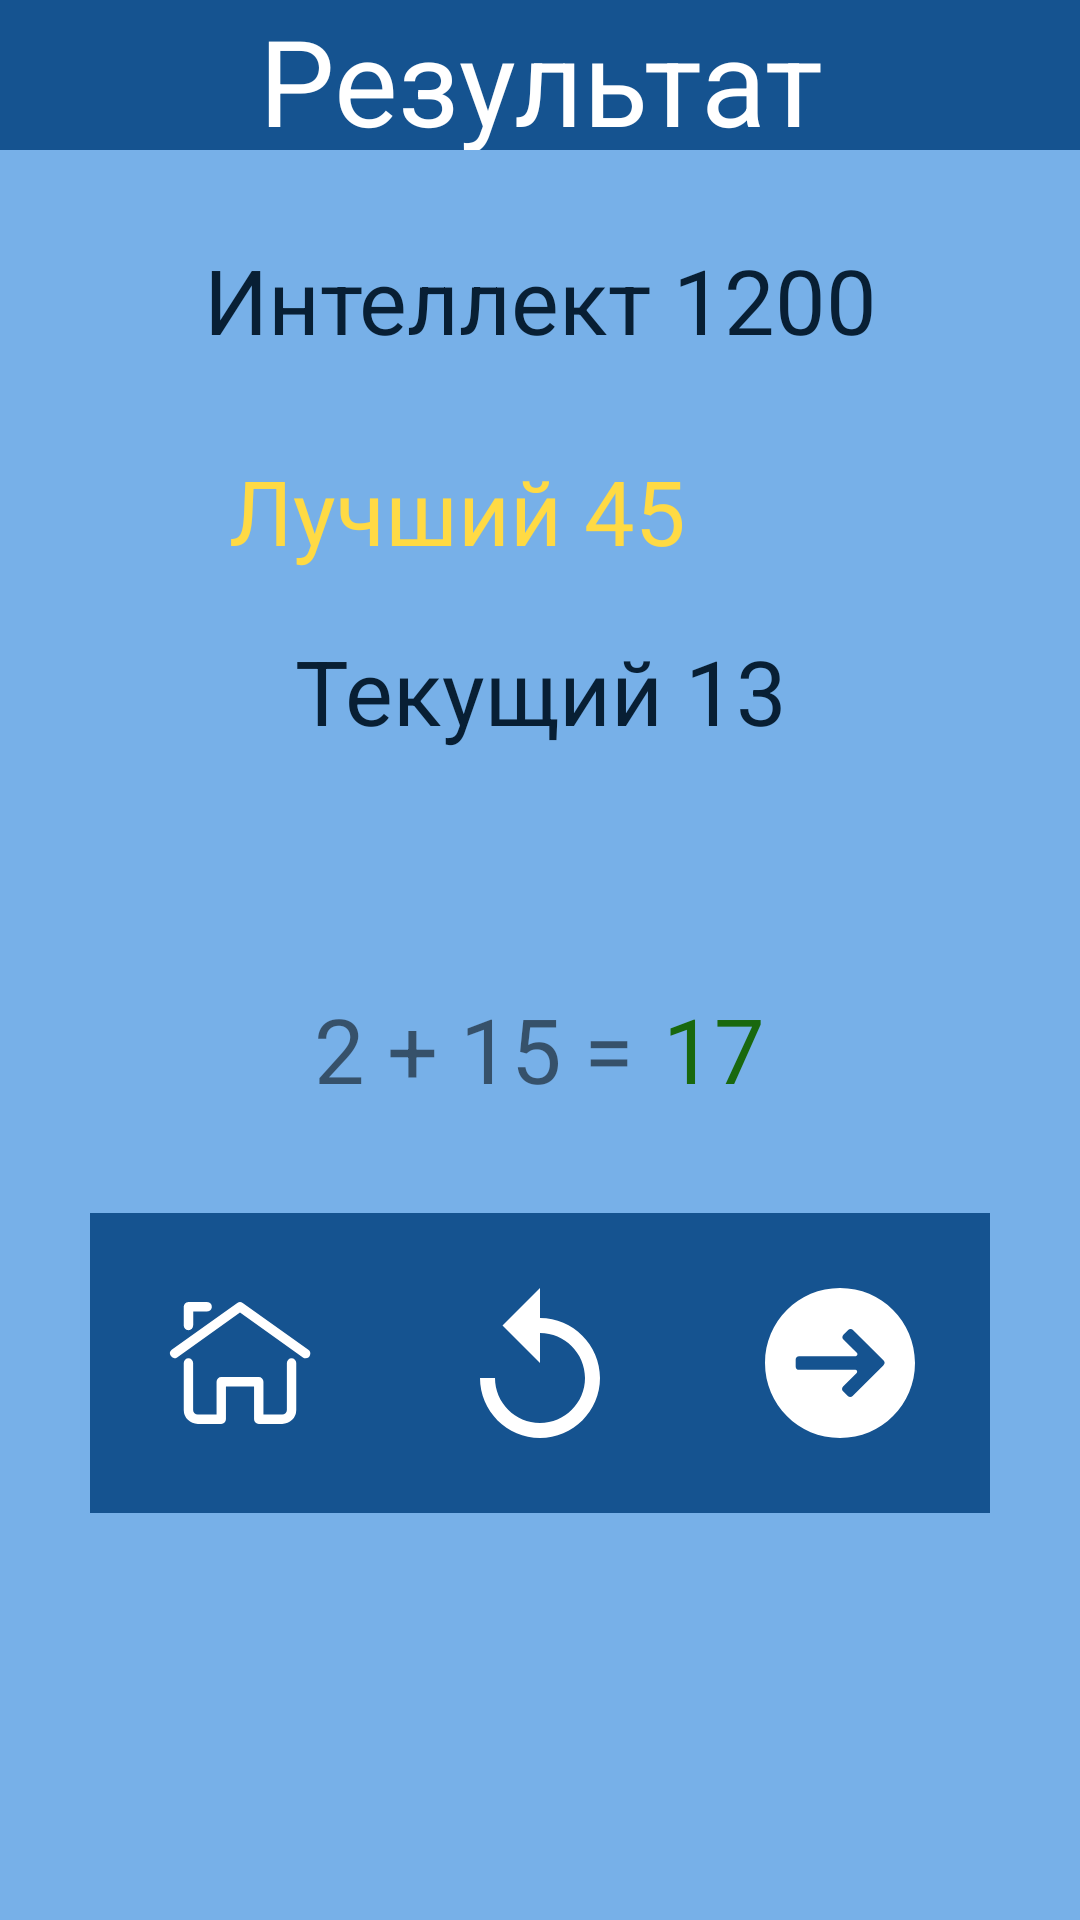

Icon bounding boxes for this 1080px x 1920px phone screenshot, format bbox=[x1, y1, x2, y2]:
home: bbox=[90, 1213, 390, 1513]
next: bbox=[690, 1213, 990, 1513]
